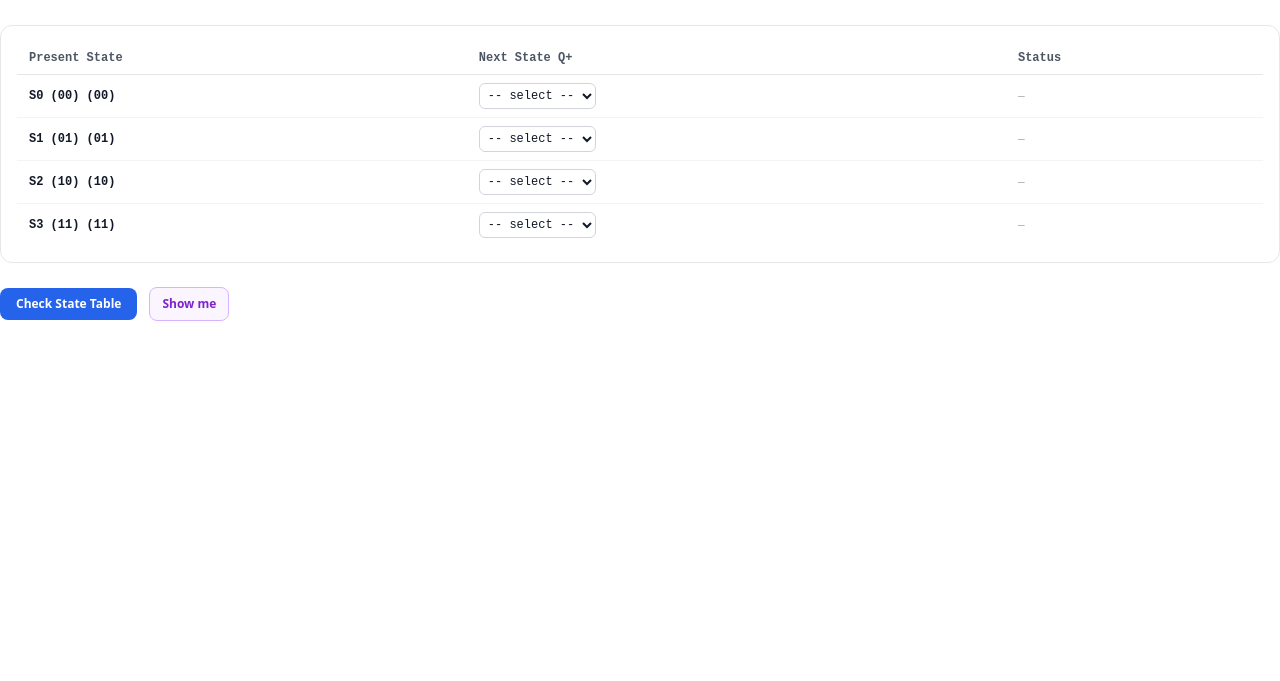
Test: StateTableEditor component › diagnoses confused-q-and-qnext when student enters present state Q instead of next state
Select "S0 (00) (00)" in the dropdown named "State 00 (S0 (00)), next state" at (537,96), box [479,83,596,109]
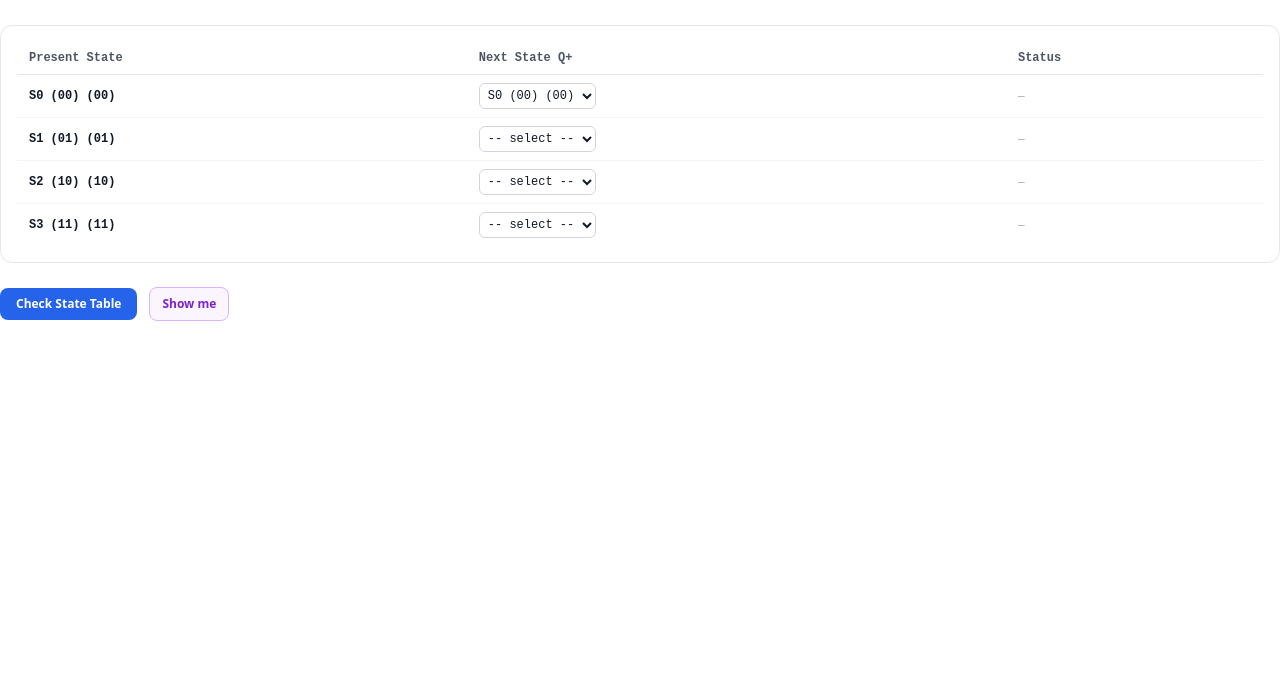
Note: Check table
Click the button "Check State Table" at (69,304), box [0,288,137,320]
(page scrolled)
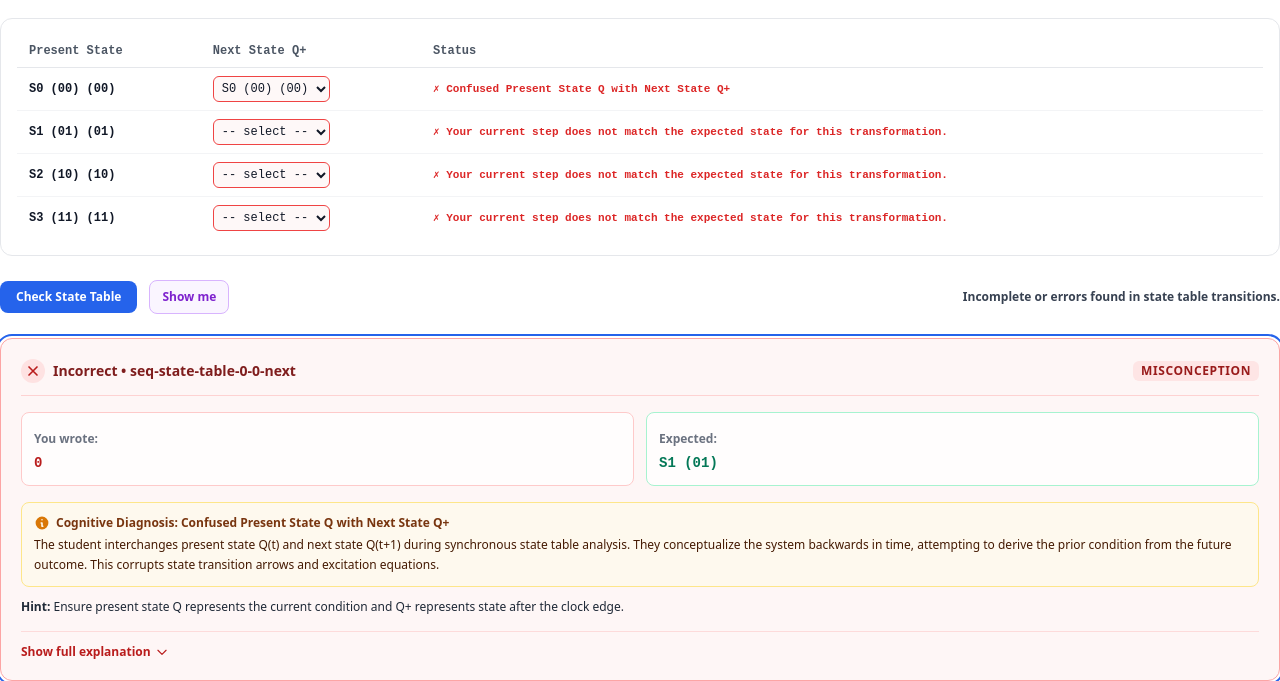
Result: the text "✗ Confused Present State Q with Next State Q+" is shown at [433,83,730,95]
